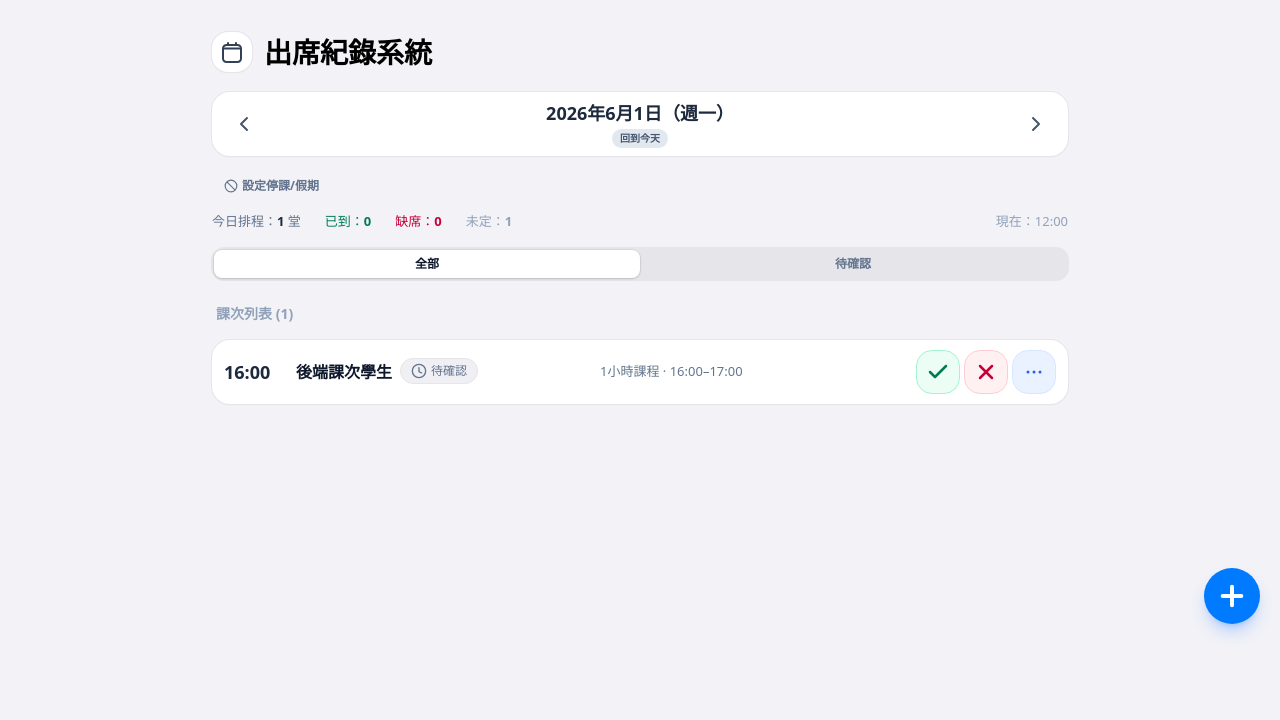
Scenario: TodayPage backend session status updates › shows the 天氣 (WEA) reason button and sends 天氣 through backend PATCH
Click the button named "記錄缺席" at [986, 372], box x1=964 y1=350 x2=1008 y2=394
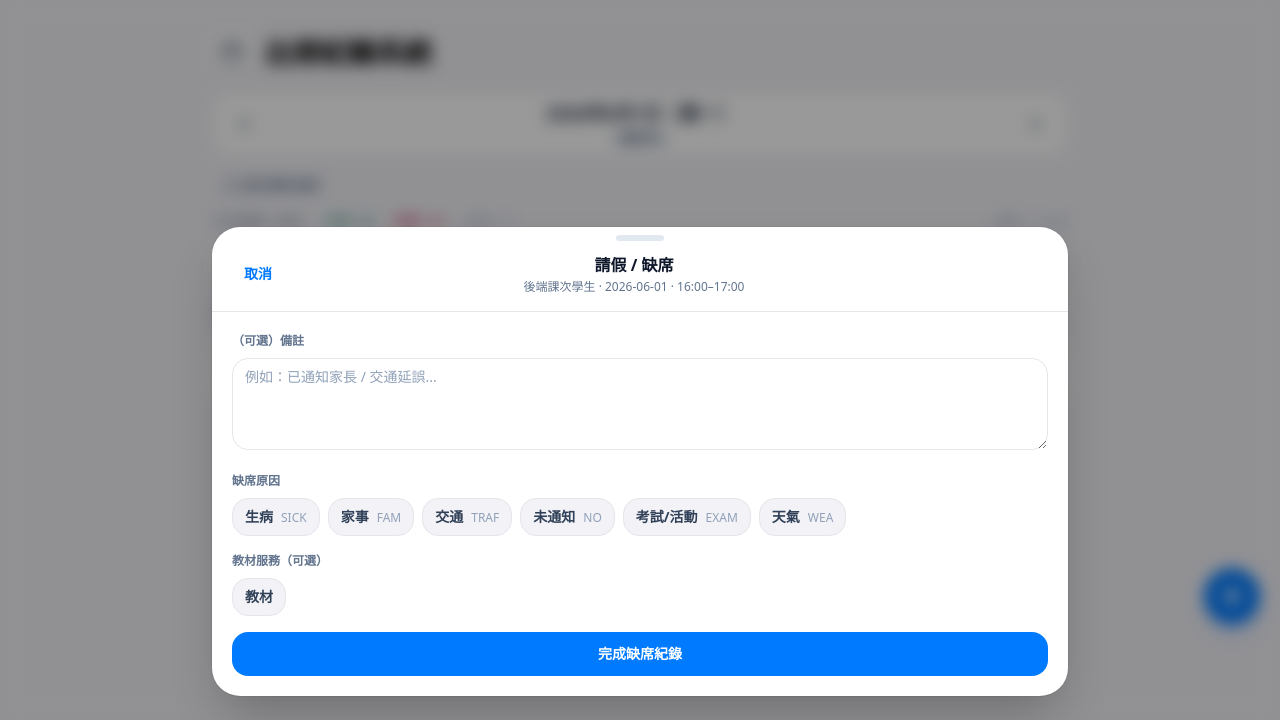
Now the button "天氣" is shown
Now the text "WEA" is shown, box x1=808 y1=509 x2=833 y2=526
Click the button "天氣" at [803, 517], box x1=759 y1=498 x2=846 y2=536
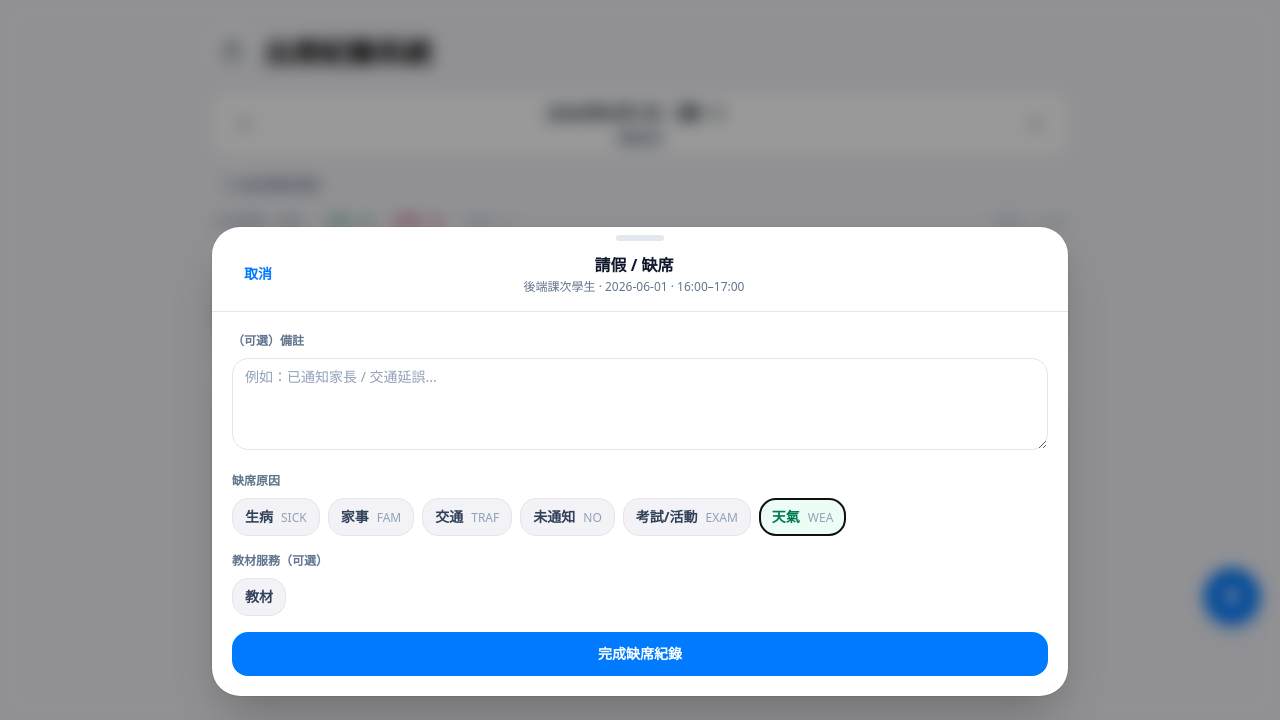
Click the button "完成缺席紀錄" at [640, 654], box x1=232 y1=632 x2=1048 y2=676
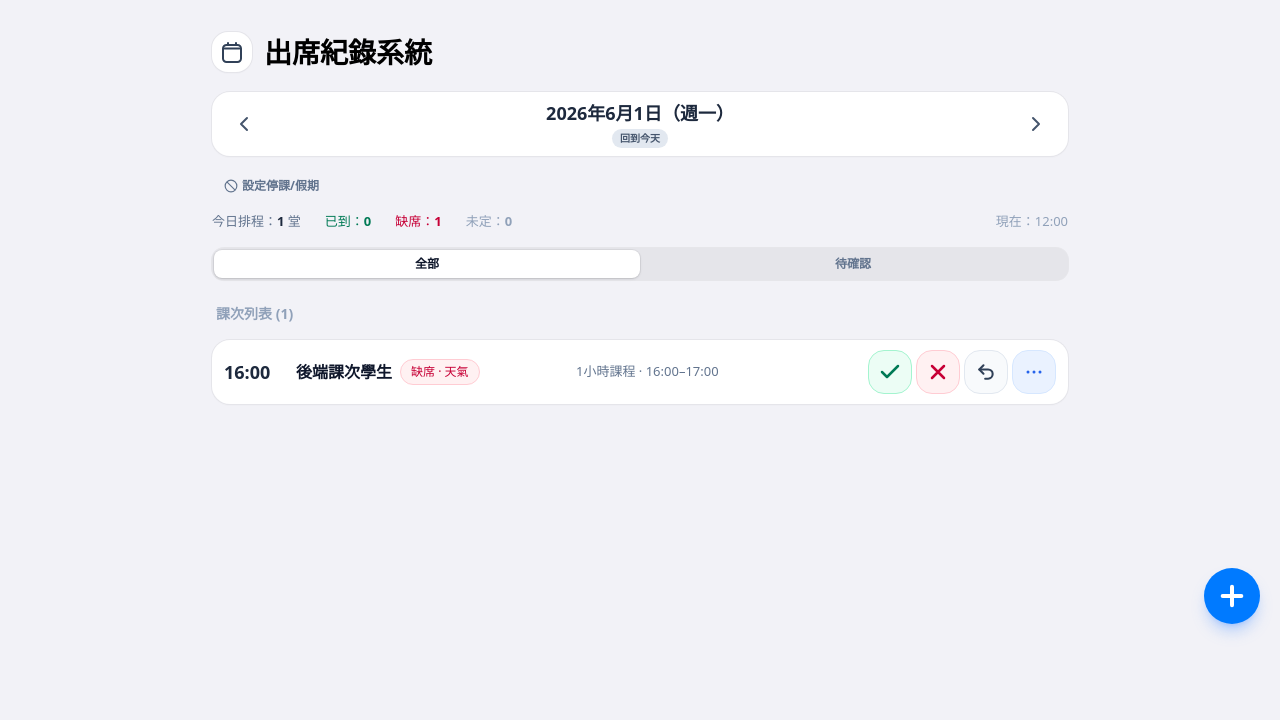
Now the text "缺席 · 天氣" is shown, box x1=400 y1=359 x2=480 y2=385
